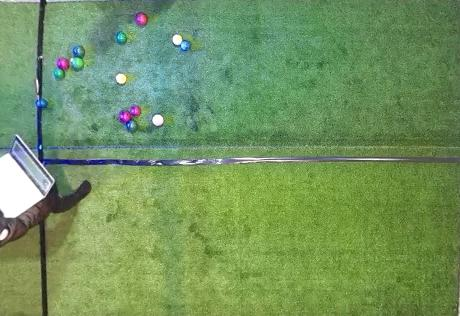blue: (181, 40, 191, 52), (35, 98, 47, 108)
green: (71, 57, 84, 69), (73, 46, 85, 58), (126, 120, 138, 131), (116, 32, 127, 43), (54, 68, 65, 78)
red: (135, 12, 148, 26), (152, 114, 164, 126), (119, 111, 131, 123), (57, 58, 69, 70), (130, 105, 141, 116)
vline: (1, 222, 50, 315), (1, 1, 46, 97), (1, 107, 43, 160), (455, 1, 459, 315)
white: (70, 58, 74, 62)
yellow: (116, 73, 126, 84), (172, 34, 182, 45)
